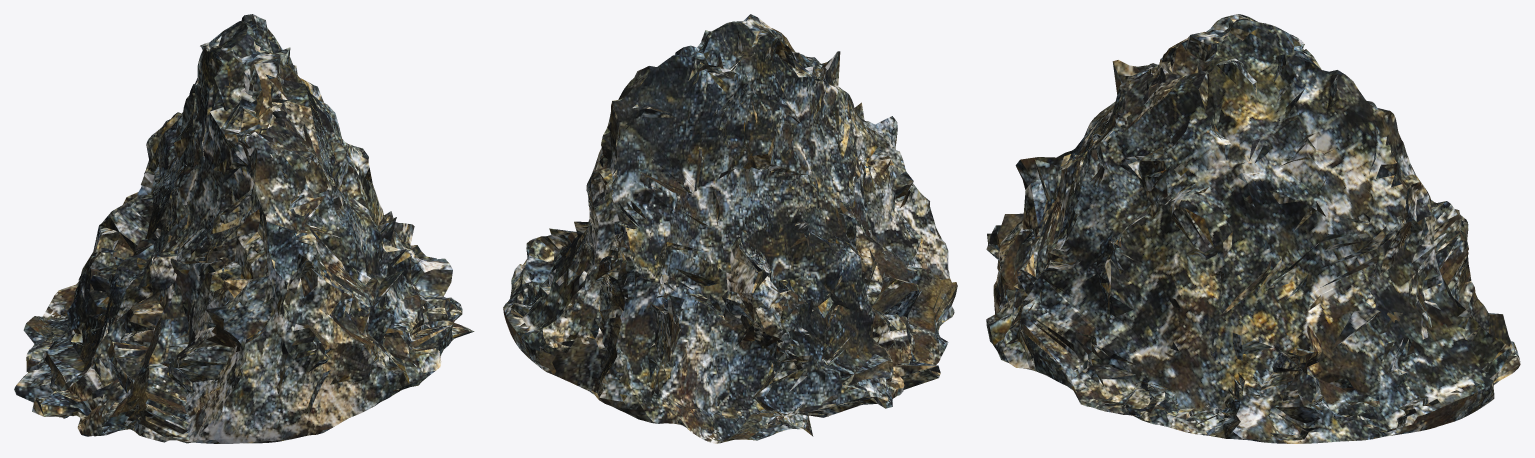
The model's file is cliff.fbx.
The picture shows the model from 3 angles, left to right: view 1: azimuth 30°, elevation 25°; view 2: azimuth 150°, elevation 25°; view 3: azimuth 270°, elevation 25°; orthographic projection. The views are drawn at different scales.
Parts seen in each view (by area): view 1: Икосфера; view 2: Икосфера; view 3: Икосфера.
Part boxes in pixels (left/top/right/bottom): Икосфера: left=14, top=14, right=474, bottom=443; Икосфера: left=503, top=14, right=957, bottom=443; Икосфера: left=986, top=14, right=1520, bottom=443.
Size of the model in its own units: 9493 by 7623 by 9617.
